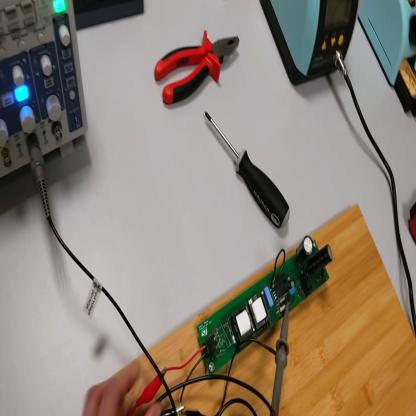electric screwdriver: (409, 202, 416, 242)
hand: (83, 359, 165, 415)
high voltage board: (167, 228, 335, 408)
oscilloscope: (2, 3, 88, 181)
oscilloscope probe tip: (271, 300, 295, 415)
pliers: (155, 33, 241, 109)
screwdriver-: (206, 113, 292, 227)
welder base: (358, 1, 416, 116)
welder station: (262, 1, 362, 88)
working area: (122, 204, 416, 414)
